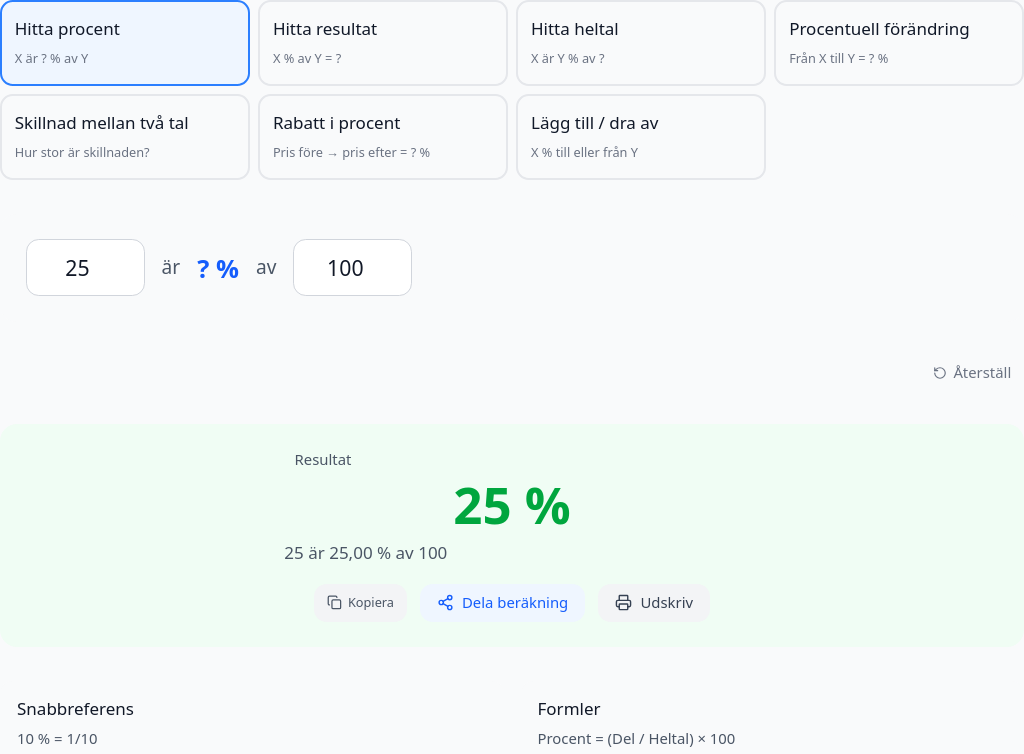
Test: ProcentBeregner › svensk forskel-tilstand bruger svenske ord på begge domæner
The width and height of the screenshot is (1024, 754).
Click the radio button labelled "Skillnad mellan två tal Hur stor är skillnaden?" at (125, 137), box x1=0 y1=94 x2=250 y2=180
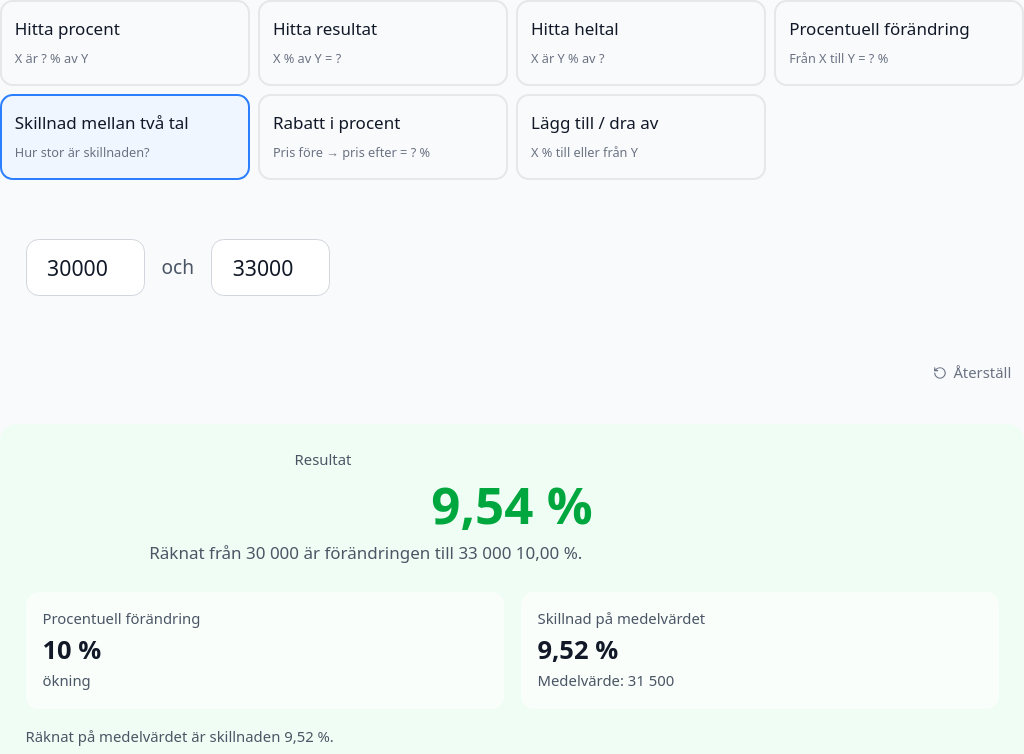
Check: the number field named "Första talet" is shown, box x1=26 y1=239 x2=144 y2=296
Check: the number field named "Andra talet" is shown, box x1=211 y1=239 x2=330 y2=296
Check: the heading "Skillnad på medelvärdet" is shown, box x1=538 y1=608 x2=705 y2=628
